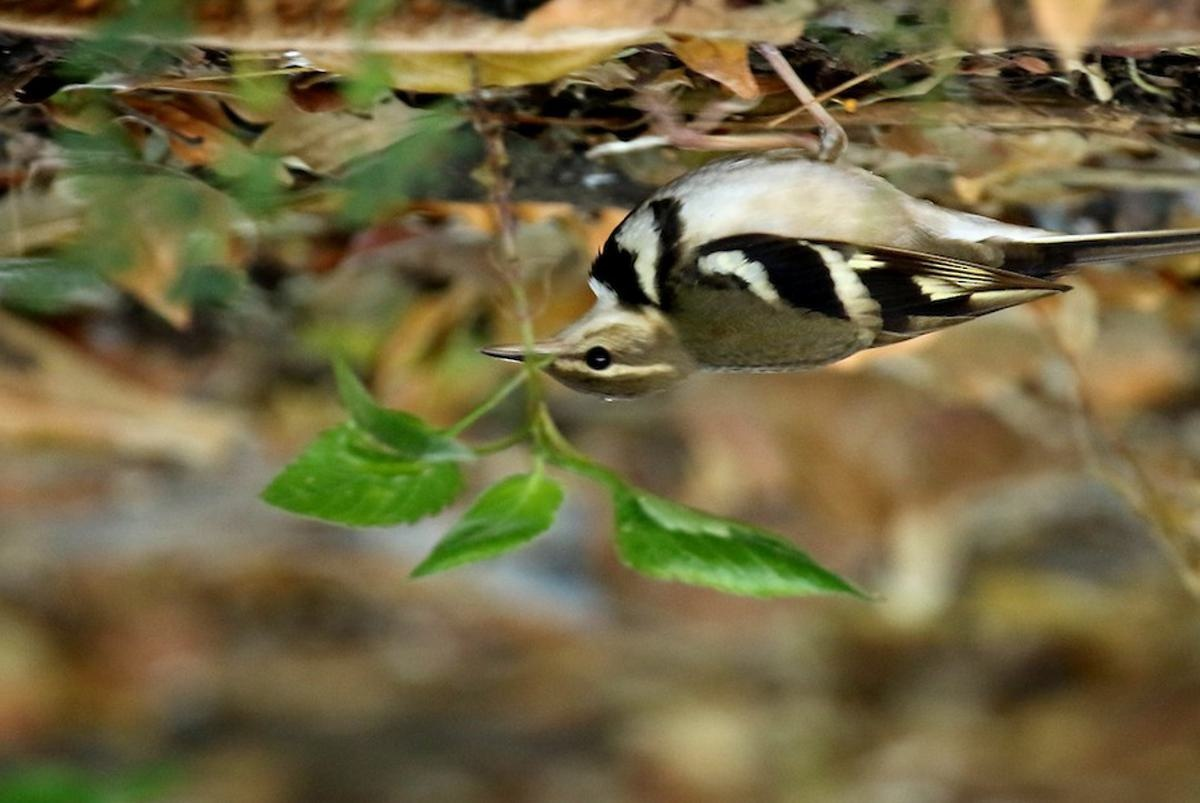wagtail: (474, 101, 1175, 425)
